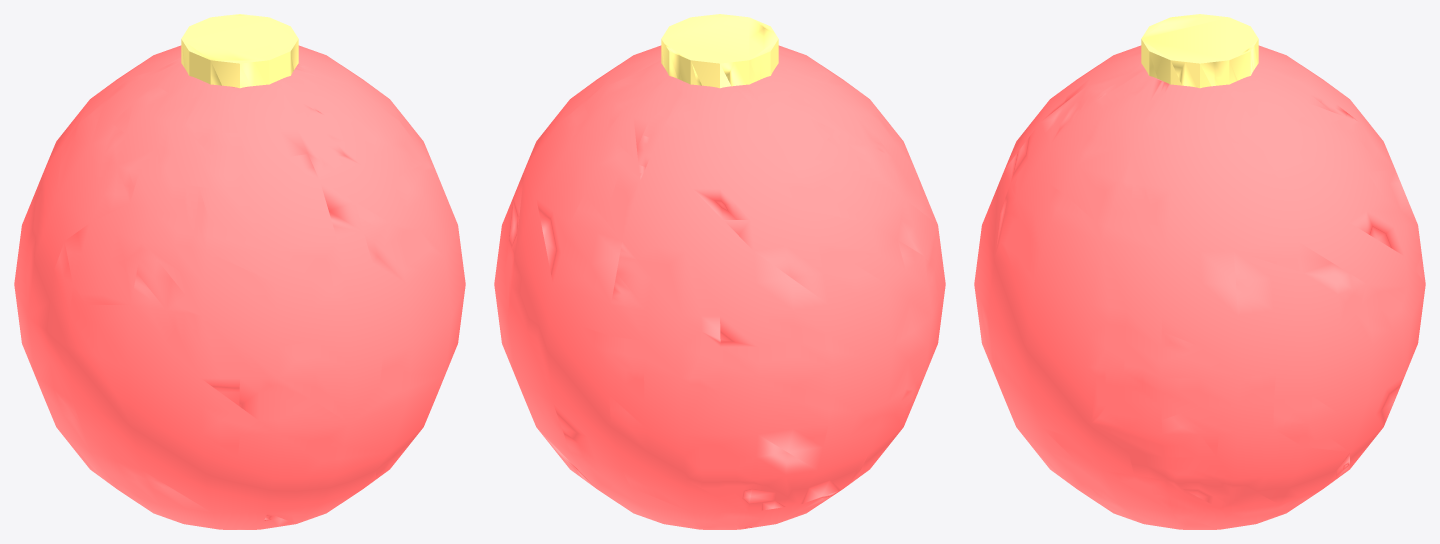
The model's file is ornament.glb.
3 views of the same model, side by side, from view 1: azimuth 30°, elevation 25°; view 2: azimuth 150°, elevation 25°; view 3: azimuth 270°, elevation 25° (orthographic).
Parts seen in each view (by area): view 1: Ornament; view 2: Ornament; view 3: Ornament.
Part boxes in pixels (x1=…): Ornament: x1=14, y1=14, x2=465, y2=529; Ornament: x1=494, y1=14, x2=945, y2=529; Ornament: x1=974, y1=14, x2=1425, y2=529.
Bounding box in the file's own units: 1.97 × 2.32 × 2.
